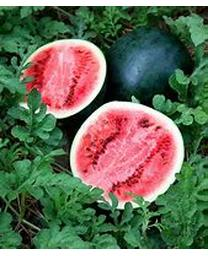watermelon: (71, 99, 187, 210), (18, 38, 108, 116)
